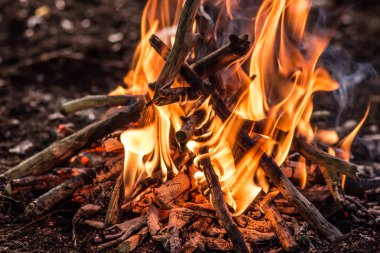fire: (130, 11, 231, 201), (237, 14, 319, 161)
